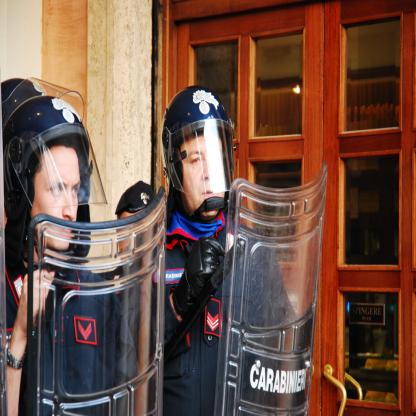Helmet: (3, 94, 90, 257), (160, 83, 236, 229)
